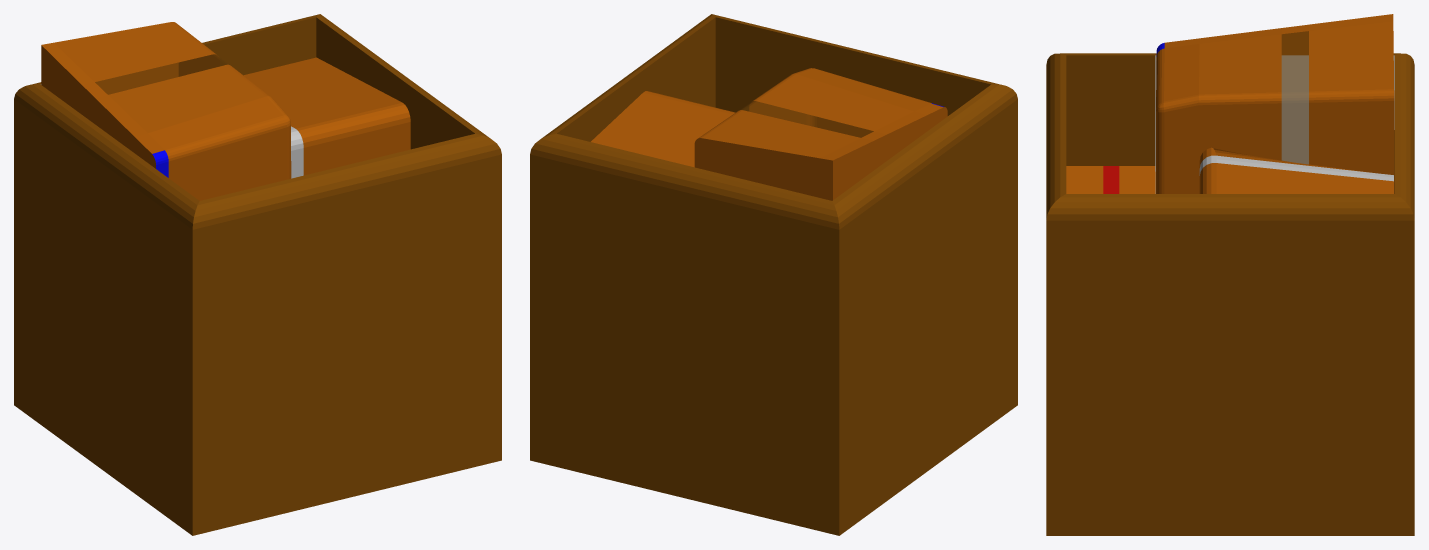
File: caja de almacen (2).fbx
The picture shows the model from 3 angles, left to right: view 1: azimuth 30°, elevation 25°; view 2: azimuth 150°, elevation 25°; view 3: azimuth 270°, elevation 25°; orthographic projection. The views are drawn at different scales.
Parts seen in each view (by area): view 1: Cube; view 2: Cube; view 3: Cube.
Part boxes in pixels (x1=…): Cube: x1=14, y1=14, x2=501, y2=535; Cube: x1=530, y1=14, x2=1017, y2=535; Cube: x1=1046, y1=14, x2=1414, y2=535.
Bounding box in the file's own units: 328 × 377 × 328.
